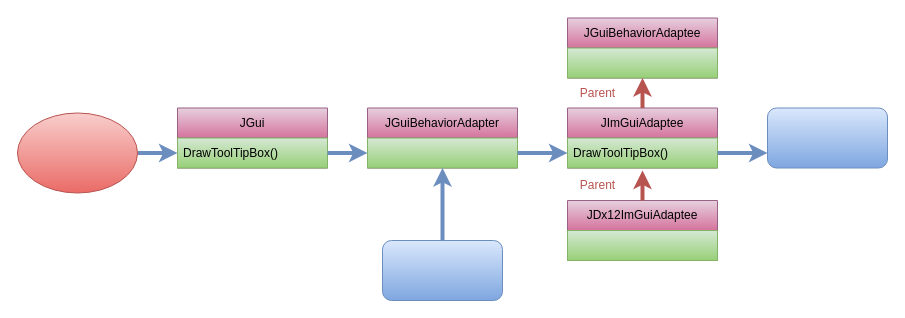
Image size: 905x318. Some labels were removed from this diagram. Each missing label, with the centre of its shape:
"Allocated by main module" belongs at (442,270).
"Call DrawToolTipBox" belongs at (77,152).
"GetAdaptee()" belongs at (442,152).
"Gui api work" belongs at (827,137).
